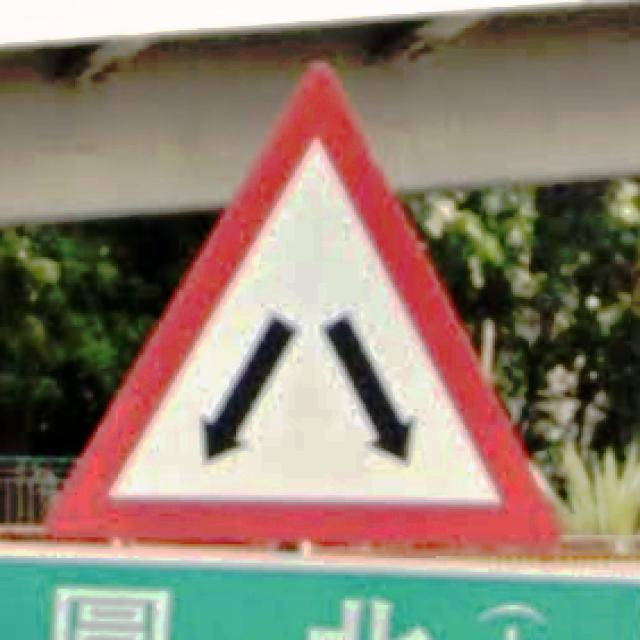diverge: (45, 63, 565, 549)
